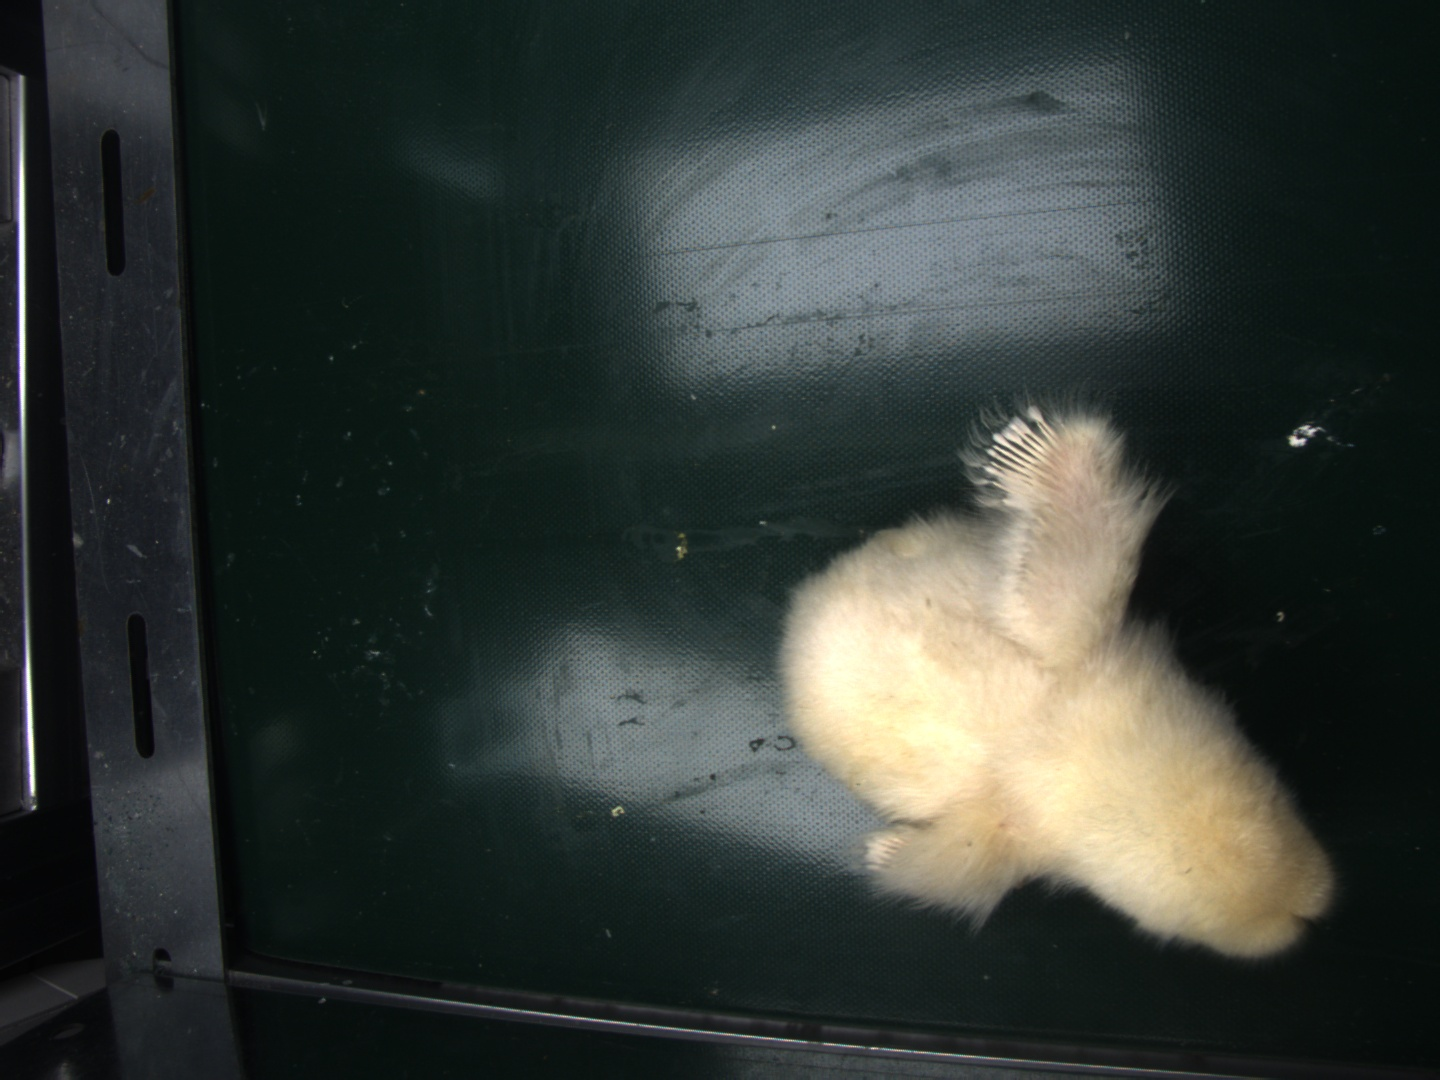male: (980, 402, 1062, 493)
